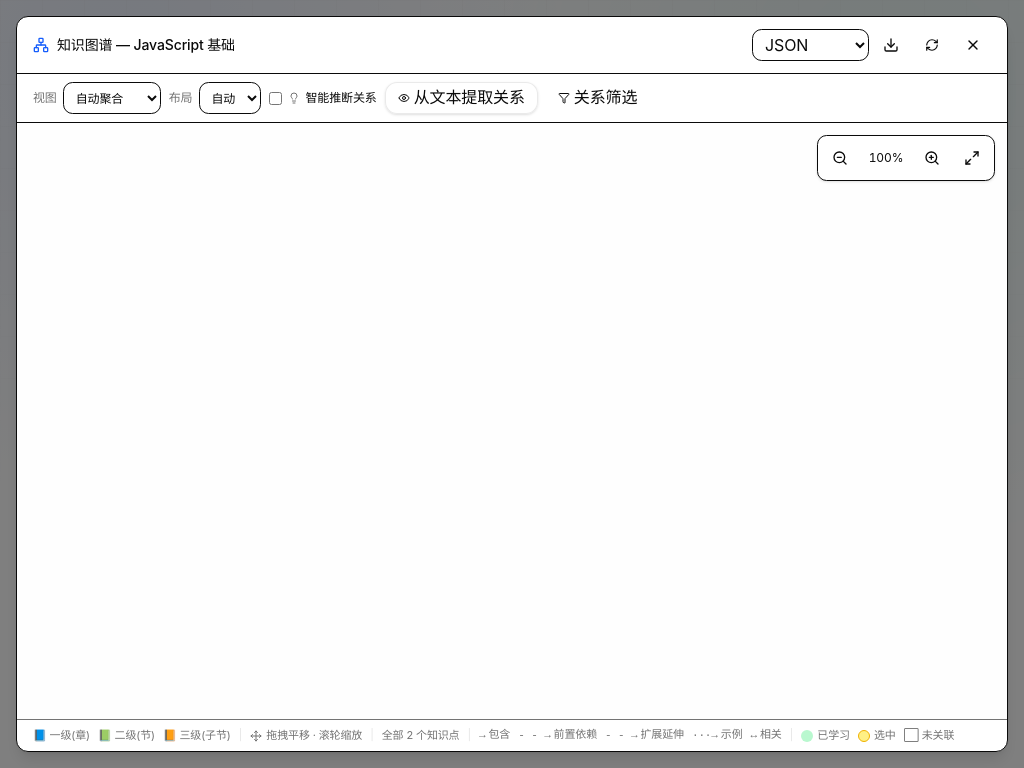
Test: KnowledgeGraphModal › switches between the topic skeleton and all knowledge points
The width and height of the screenshot is (1024, 768).
Select "主题骨架" in the dropdown named "图谱视图" at (112, 98), box [63,82,161,114]
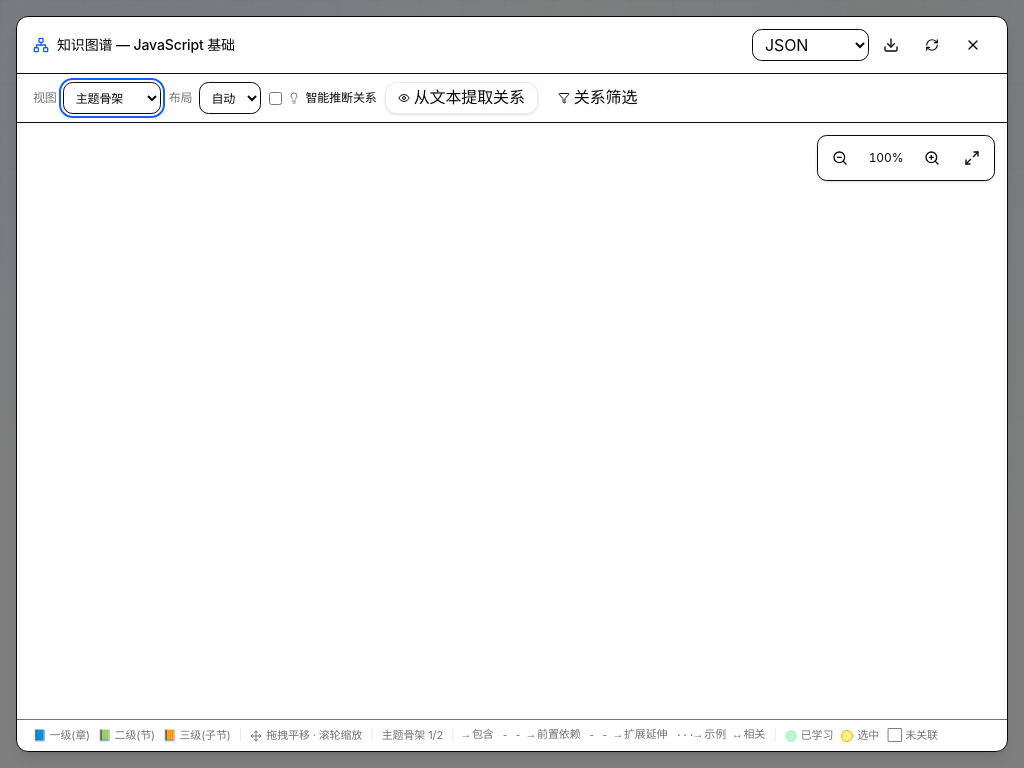
Expected: the text "主题骨架 1/2" is shown, [382,727,443,744]
Select "全部知识点" in the dropdown named "图谱视图" at (112, 98), box [63,82,161,114]
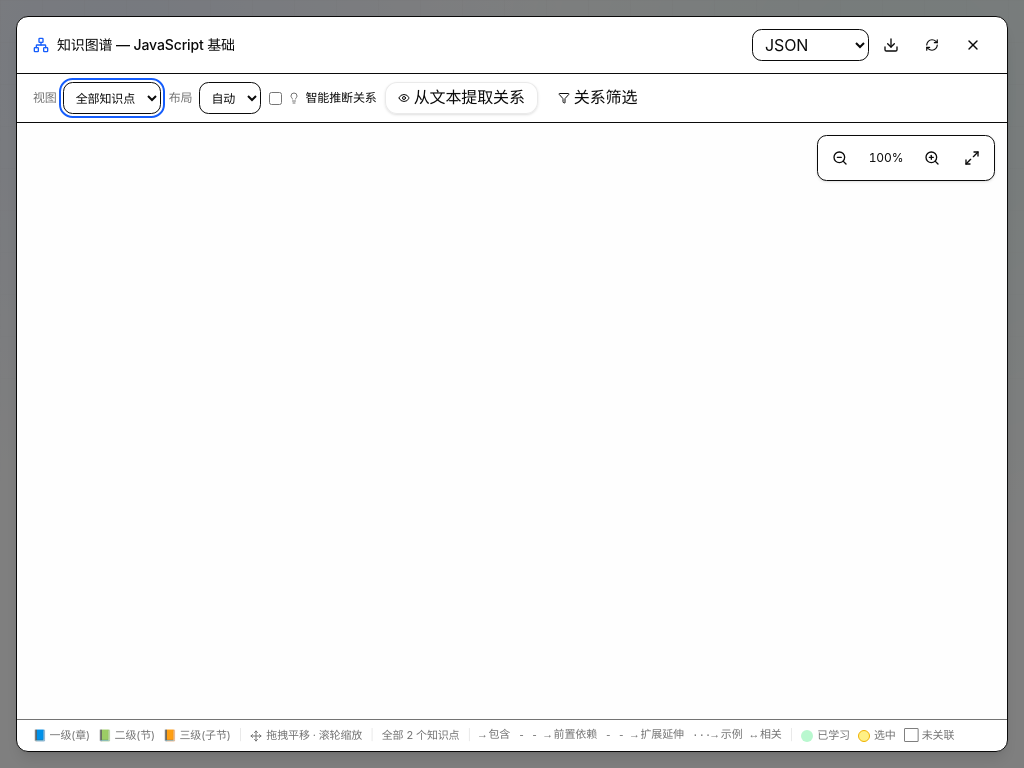
Expected: the text "全部 2 个知识点" is shown, [382,727,460,744]
